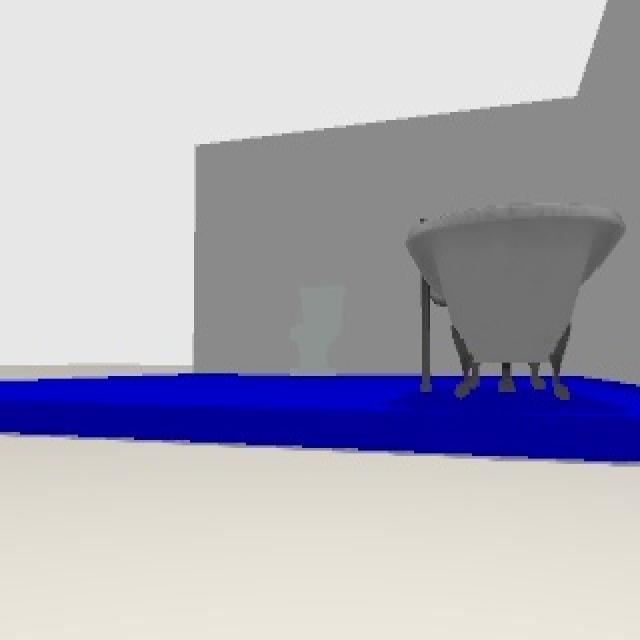bathtub: (406, 201, 626, 400)
